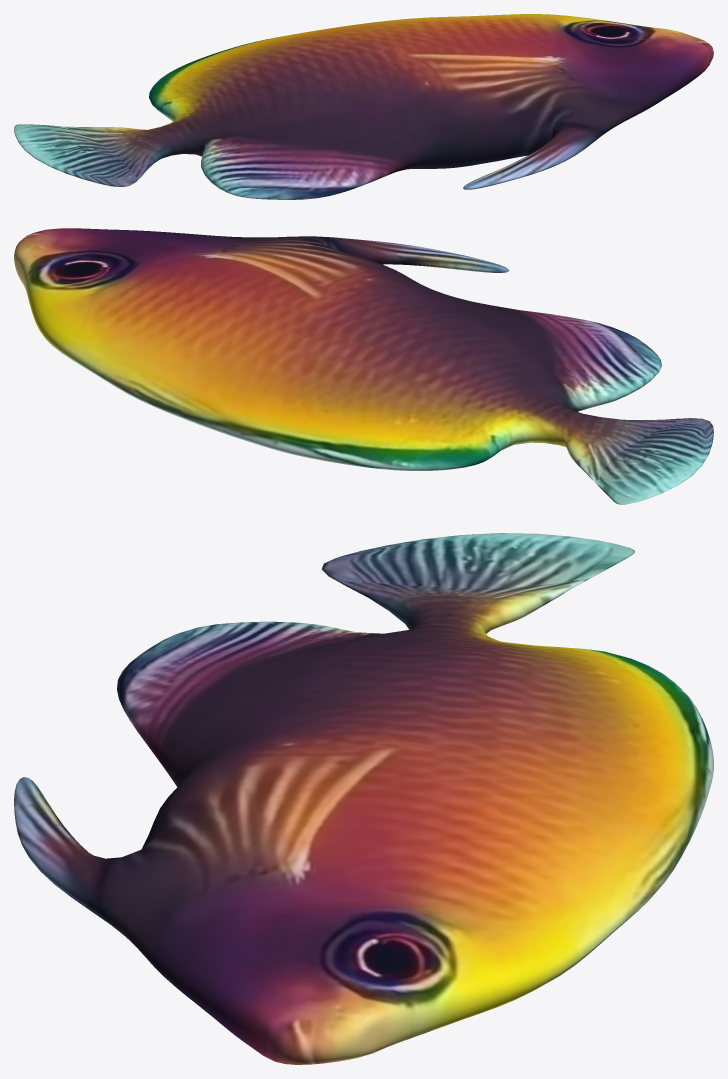
Rendered from swim-sea.glb.
The picture shows the model from 3 angles, top to bottom: view 1: azimuth 30°, elevation 25°; view 2: azimuth 150°, elevation 25°; view 3: azimuth 270°, elevation 25°; orthographic projection. The views are drawn at different scales.
Visible parts, largest first — view 1: fish1; view 2: fish1; view 3: fish1.
Boxes of the visible parts, box(x1,y1,x2,y2) form: fish1: box(14, 14, 713, 199); fish1: box(14, 228, 713, 504); fish1: box(14, 533, 713, 1064).
Bounding box in the file's own units: 4.05 × 0.5331 × 2.3.
Materials: 1 (1 with a texture image).
